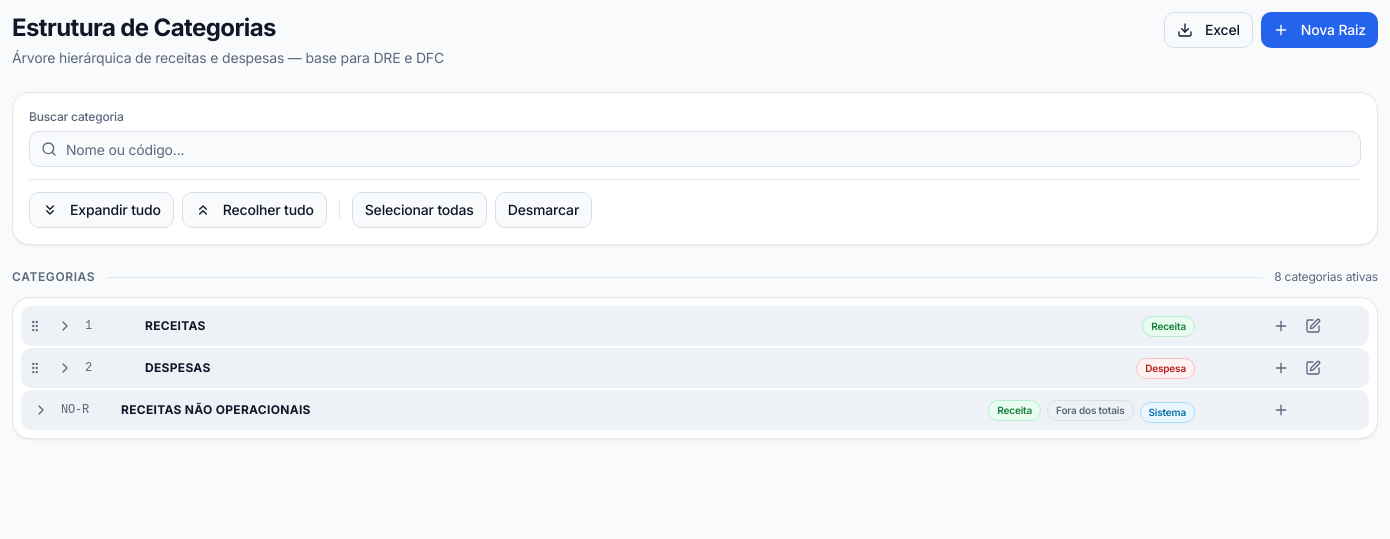
Test: Estrutura de Categorias (V2) › árvore com selos, raiz de sistema sem ações e ações nomeadas por linha; nenhuma escrita ao abrir
The width and height of the screenshot is (1390, 539).
Expected: the text "RECEITAS" is shown, [145,318,206,334]
Expected: the text "8 categorias ativas" is shown, [1274,269,1378,285]
Click the button named "Expandir RECEITAS" at (65, 326), box [49,310,81,342]
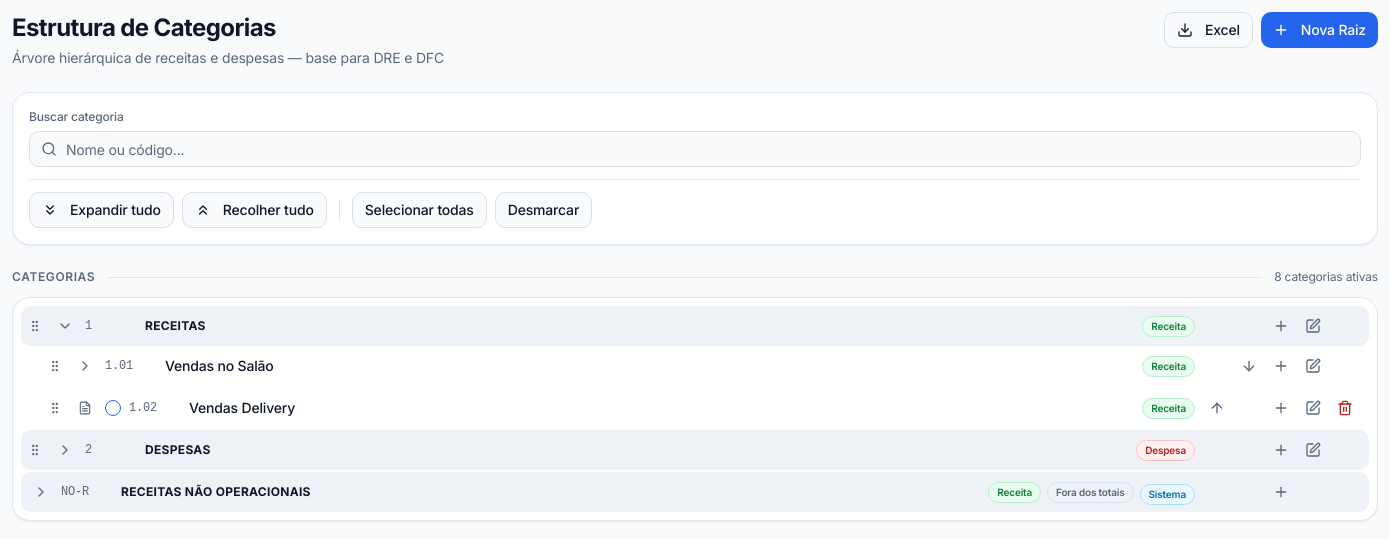
Expected: the button named "Recolher RECEITAS" is expanded, [49,310,81,342]
Expected: the button named "Descer Vendas no Salão" is shown, [1233,350,1265,382]
Expected: the button named "Subir Vendas Delivery" is shown, [1201,392,1233,424]
